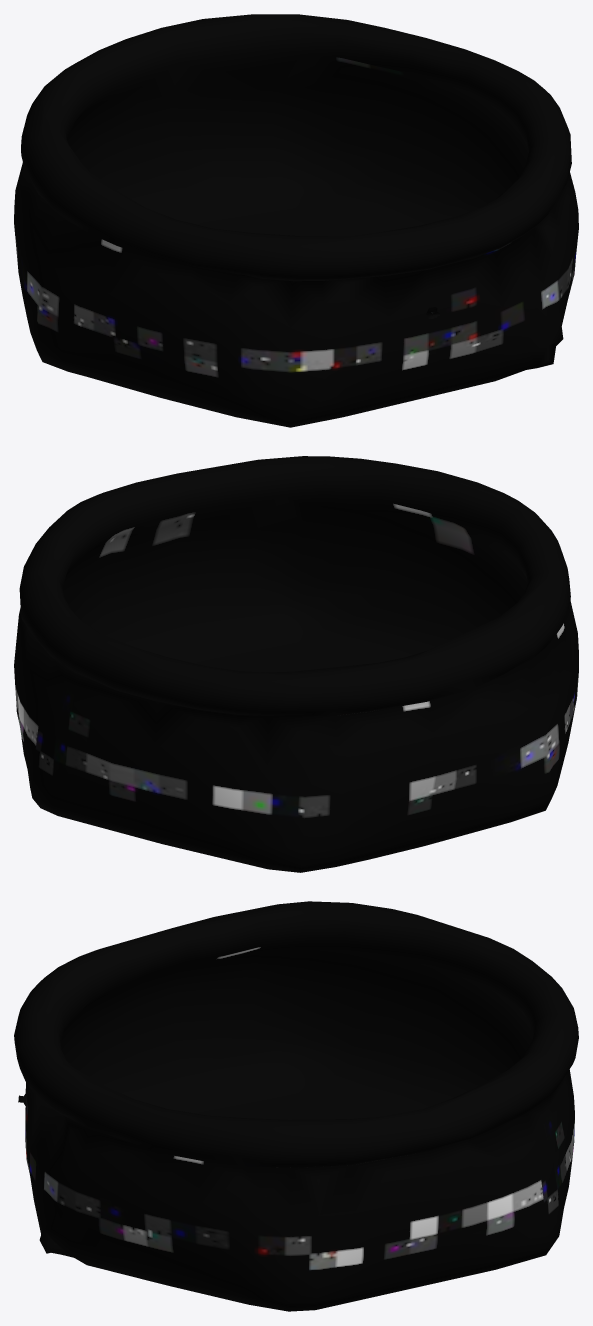
File: paddlingpool.deployed.glb
The picture shows the model from 3 angles, top to bottom: view 1: azimuth 30°, elevation 25°; view 2: azimuth 150°, elevation 25°; view 3: azimuth 270°, elevation 25°; orthographic projection.
Visible parts, largest first — view 1: paddling_pool_LOD0; view 2: paddling_pool_LOD0; view 3: paddling_pool_LOD0.
Boxes of the visible parts, box(x1,y1,x2,y2) form: paddling_pool_LOD0: box(14, 14, 578, 427); paddling_pool_LOD0: box(14, 456, 578, 872); paddling_pool_LOD0: box(14, 901, 578, 1311).
Bounding box in the file's own units: 2.63 × 0.9324 × 2.55.
Materials: 1 (1 with a texture image).
